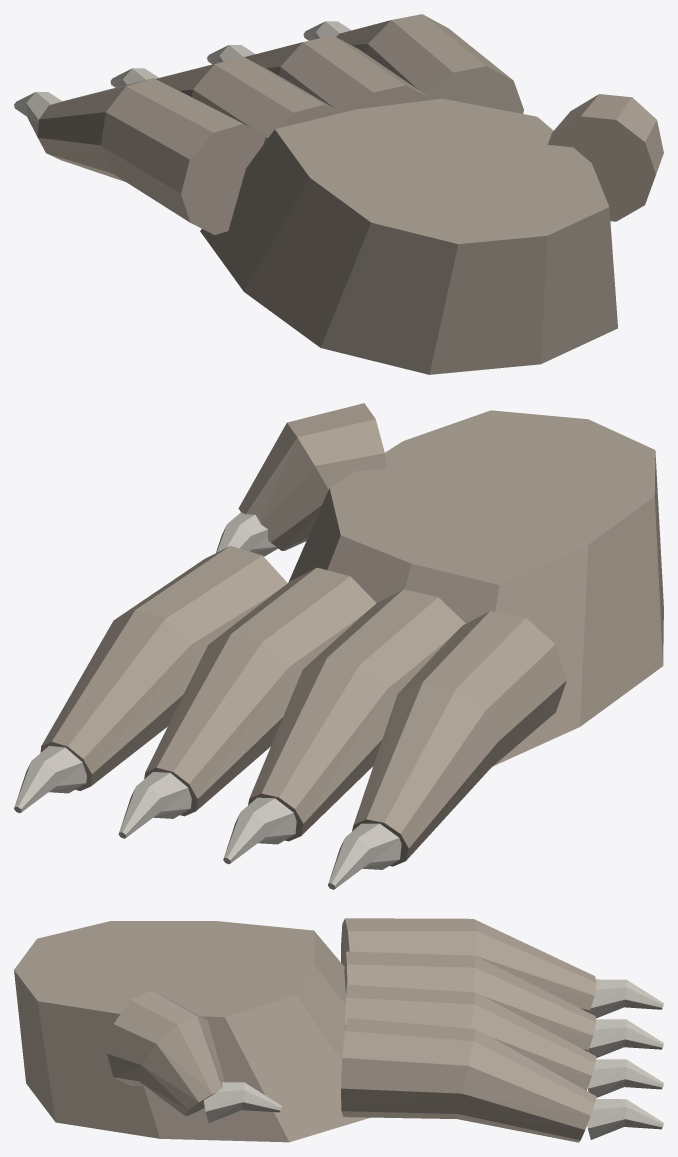
The model's file is rabbit_foot_fl_01.glb.
3 renders of one model, top to bottom at view 1: azimuth 30°, elevation 25°; view 2: azimuth 150°, elevation 25°; view 3: azimuth 270°, elevation 25°, orthographic. The views are drawn at different scales.
Parts seen in each view (by area): view 1: FrontLPalm, FrontLToe0, FrontLToe3, FrontLToe4, FrontLToe2, FrontLToe1, FrontLClaw0, FrontLClaw3, FrontLClaw2, FrontLClaw1; view 2: FrontLPalm, FrontLToe0, FrontLToe3, FrontLToe2, FrontLToe1, FrontLToe4, FrontLClaw0, FrontLClaw1, FrontLClaw2, FrontLClaw3, FrontLClaw4; view 3: FrontLPalm, FrontLToe3, FrontLToe4, FrontLToe0, FrontLToe1, FrontLToe2, FrontLClaw3, FrontLClaw2, FrontLClaw4, FrontLClaw1, FrontLClaw0.
Boxes of the visible parts, x1,y1,x2,y2 form: FrontLPalm: (200,98,617,374); FrontLToe0: (38,78,266,234); FrontLToe3: (336,14,523,113); FrontLToe4: (547,94,663,221); FrontLToe2: (244,35,431,112); FrontLToe1: (156,57,341,143); FrontLClaw0: (14,92,61,142); FrontLClaw3: (303,21,351,40); FrontLClaw2: (207,45,255,64); FrontLClaw1: (110,68,158,87); FrontLPalm: (289,410,663,765); FrontLToe0: (352,611,566,866); FrontLToe3: (40,546,287,790); FrontLToe2: (144,567,376,816); FrontLToe1: (248,589,465,841); FrontLToe4: (238,403,386,550); FrontLClaw0: (328,823,401,889); FrontLClaw1: (223,797,296,864); FrontLClaw2: (118,772,191,838); FrontLClaw3: (14,746,86,813); FrontLClaw4: (216,512,277,556); FrontLPalm: (14,921,369,1142); FrontLToe3: (341,1018,596,1142); FrontLToe4: (107,990,224,1115); FrontLToe0: (341,918,596,1012); FrontLToe1: (344,951,596,1051); FrontLToe2: (344,984,596,1090); FrontLClaw3: (587,1099,663,1139); FrontLClaw2: (587,1059,663,1097); FrontLClaw4: (203,1082,281,1122); FrontLClaw1: (588,1019,663,1058); FrontLClaw0: (589,979,663,1018).
Bounding box in the file's own units: 0.1073 × 0.0433 × 0.182.
